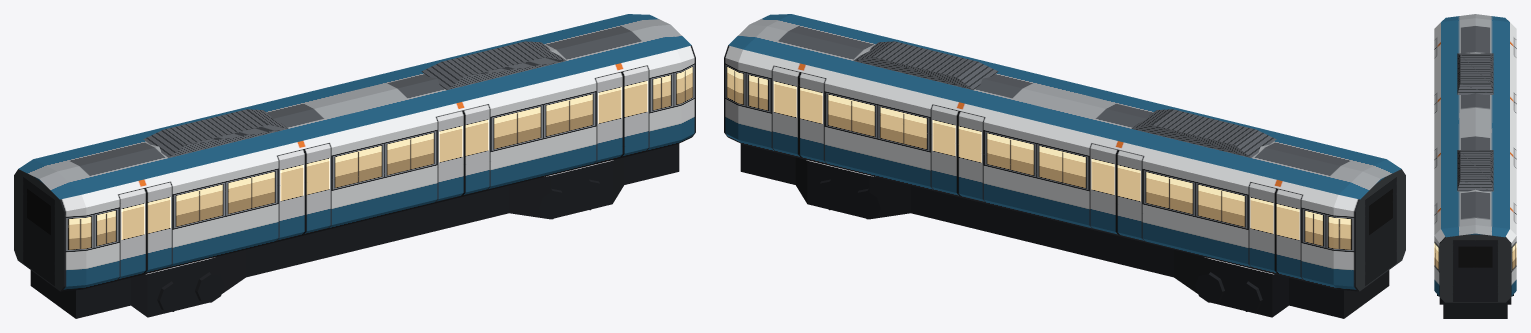
Rendered from paris_mf77__neutral.glb.
The picture shows the model from 3 angles, left to right: view 1: azimuth 30°, elevation 25°; view 2: azimuth 150°, elevation 25°; view 3: azimuth 270°, elevation 25°; orthographic projection. The views are drawn at different scales.
Parts seen in each view (by area): view 1: paris_mf77__neutral; view 2: paris_mf77__neutral; view 3: paris_mf77__neutral.
Part boxes in pixels (x1,y1,x2,y2): paris_mf77__neutral: [14, 14, 695, 318]; paris_mf77__neutral: [724, 14, 1405, 318]; paris_mf77__neutral: [1434, 14, 1516, 318].
Size of the model in its own units: 15.49 by 3.49 by 2.46.
1 material, 1 textured.
